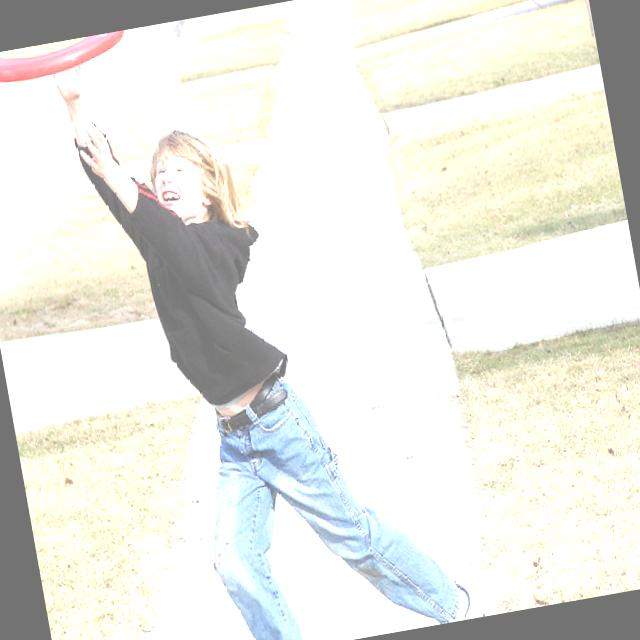Vehicle: (505, 0, 588, 14)
